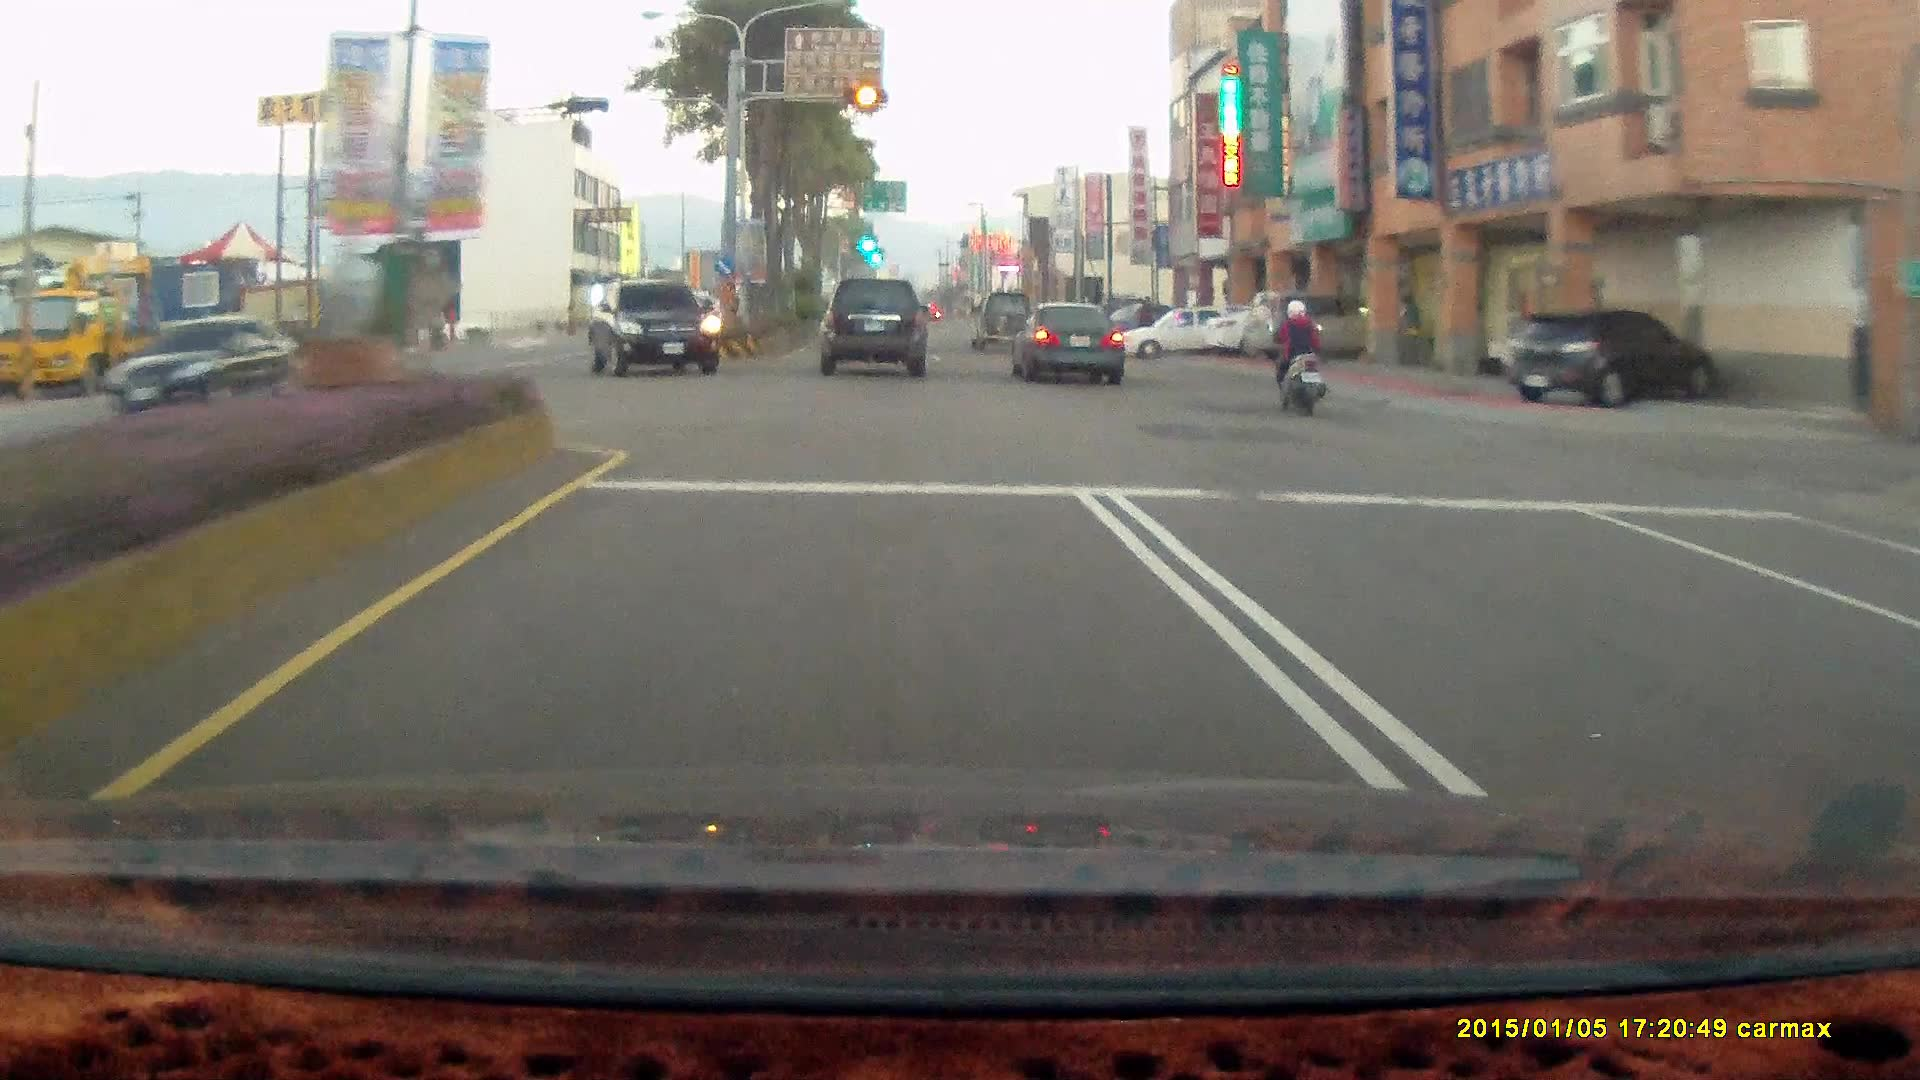pedestrian: (1400, 293, 1424, 361)
rider: (1258, 290, 1336, 423), (1270, 299, 1331, 413)
vehicle: (1, 283, 218, 396), (1508, 308, 1718, 409), (1508, 309, 1722, 406), (100, 315, 299, 420), (595, 278, 725, 377), (591, 279, 720, 376), (1243, 290, 1395, 363), (817, 276, 926, 376), (823, 279, 932, 379), (1239, 288, 1376, 363), (1009, 302, 1130, 384), (1007, 302, 1123, 386), (1131, 302, 1256, 364), (1120, 304, 1251, 359), (969, 290, 1038, 351)
